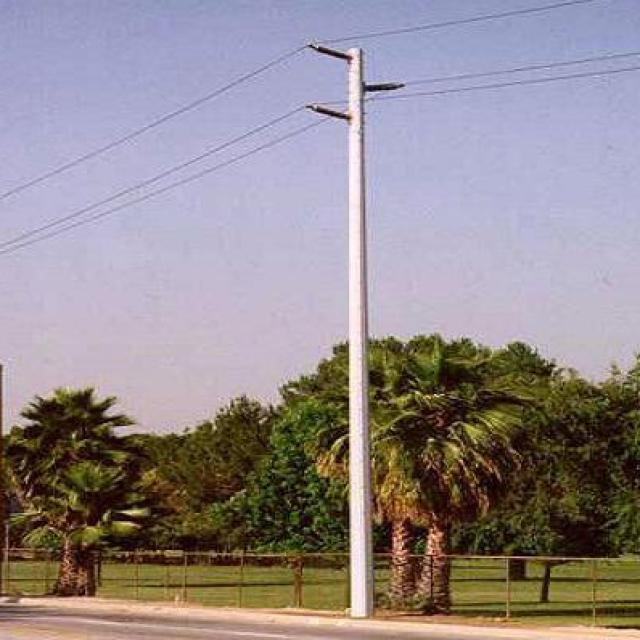non-critical vegetation: (280, 18, 413, 236)
